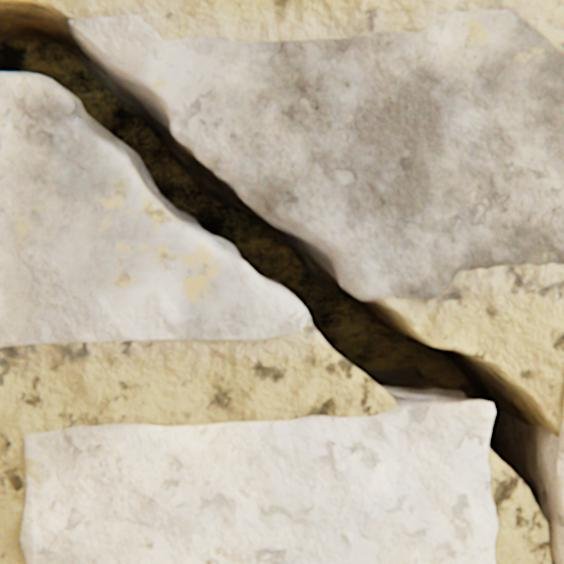brick: (22, 399, 496, 563), (556, 396, 563, 522)
broken_brick: (70, 11, 563, 299), (0, 75, 310, 346)
crack: (0, 0, 563, 563)
